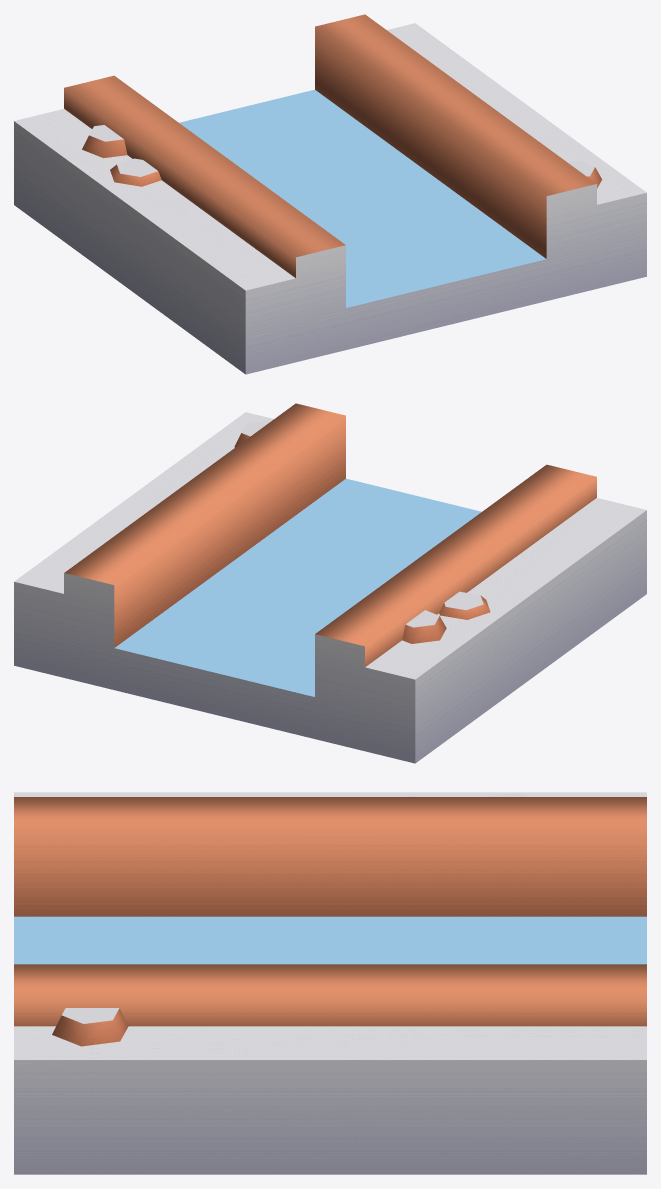
The model's file is snow-tile-river-straight.glb.
The picture shows the model from 3 angles, top to bottom: view 1: azimuth 30°, elevation 25°; view 2: azimuth 150°, elevation 25°; view 3: azimuth 270°, elevation 25°; orthographic projection. The views are drawn at different scales.
Visible parts, largest first — view 1: snow-tile-river-straight; view 2: snow-tile-river-straight; view 3: snow-tile-river-straight.
Boxes of the visible parts, x1=… form: snow-tile-river-straight: x1=14, y1=14, x2=646, y2=374; snow-tile-river-straight: x1=14, y1=403, x2=646, y2=763; snow-tile-river-straight: x1=14, y1=792, x2=646, y2=1174.
Size of the model in its own units: 3 by 0.75 by 3.
1 material, 1 textured.
